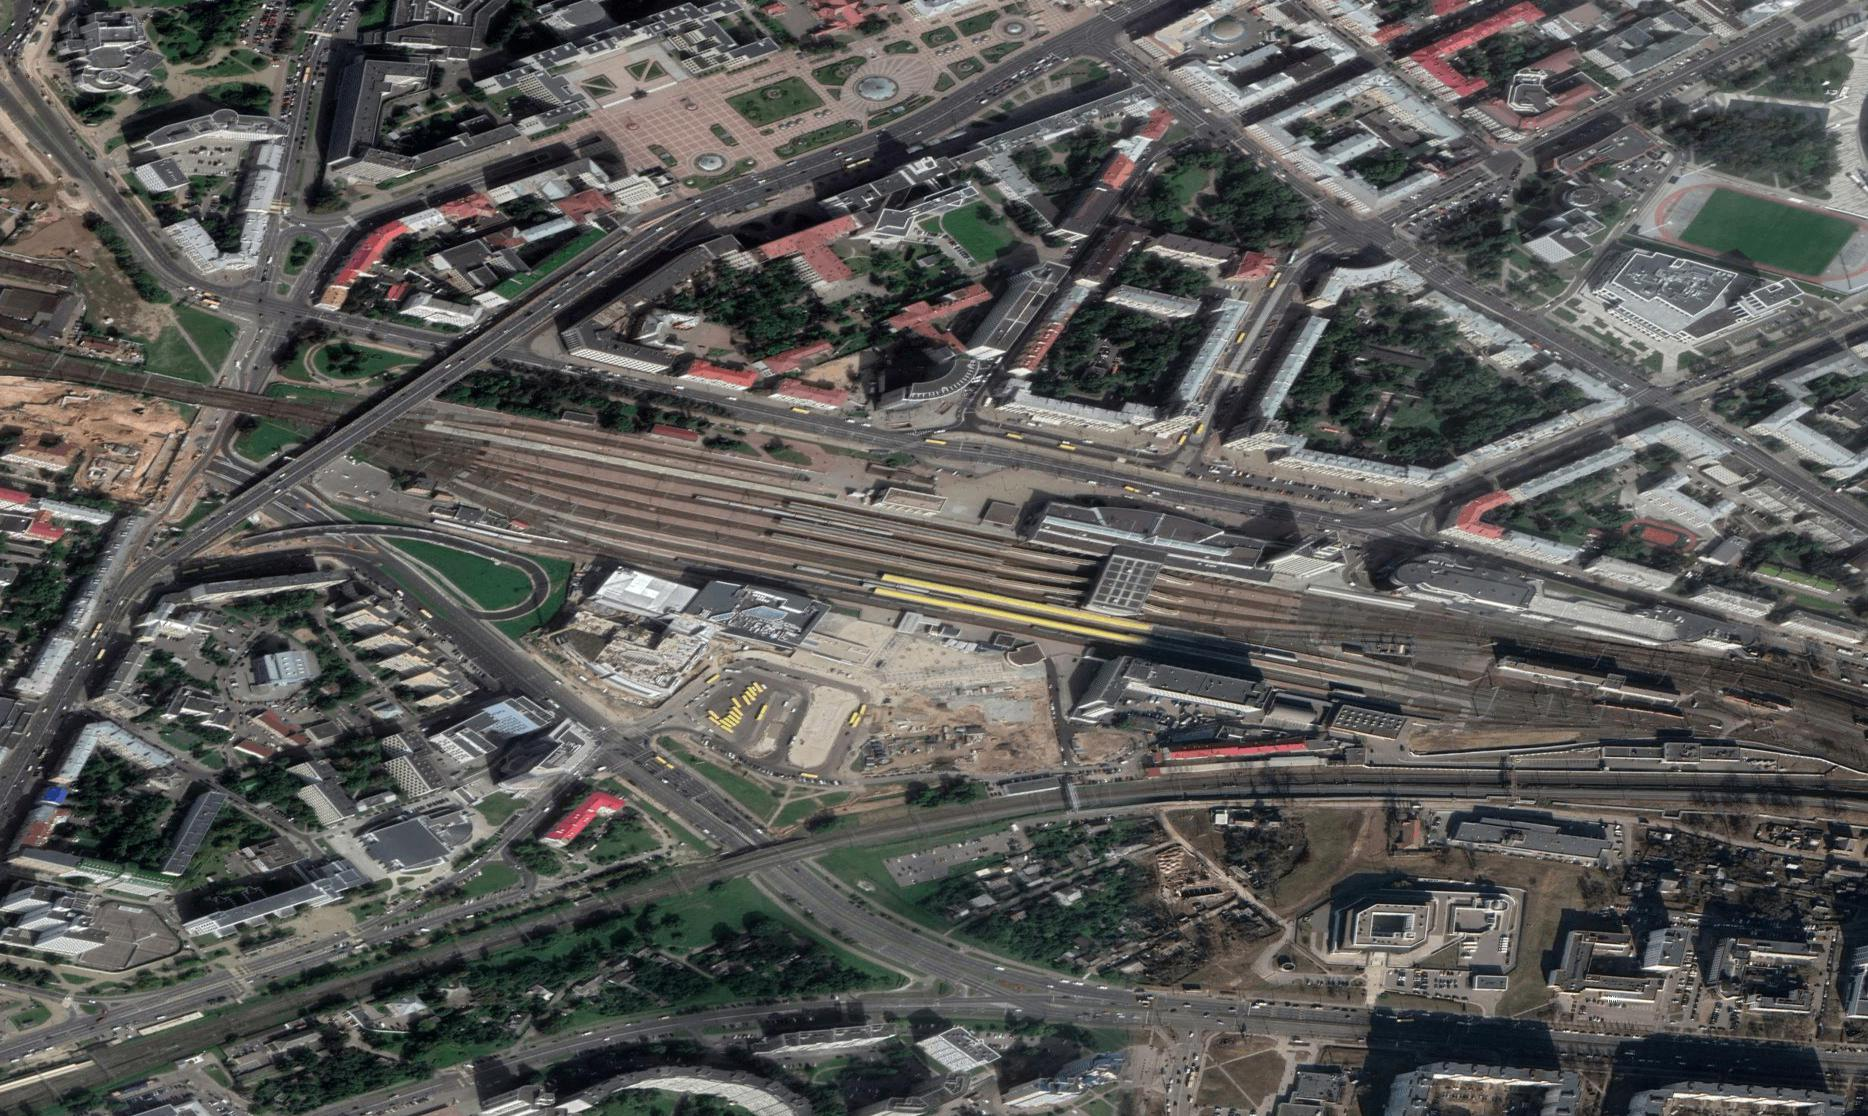bridge: (302, 357, 476, 462), (235, 460, 310, 510), (737, 826, 808, 869), (185, 377, 256, 418)
train_station: (814, 460, 1204, 697)
